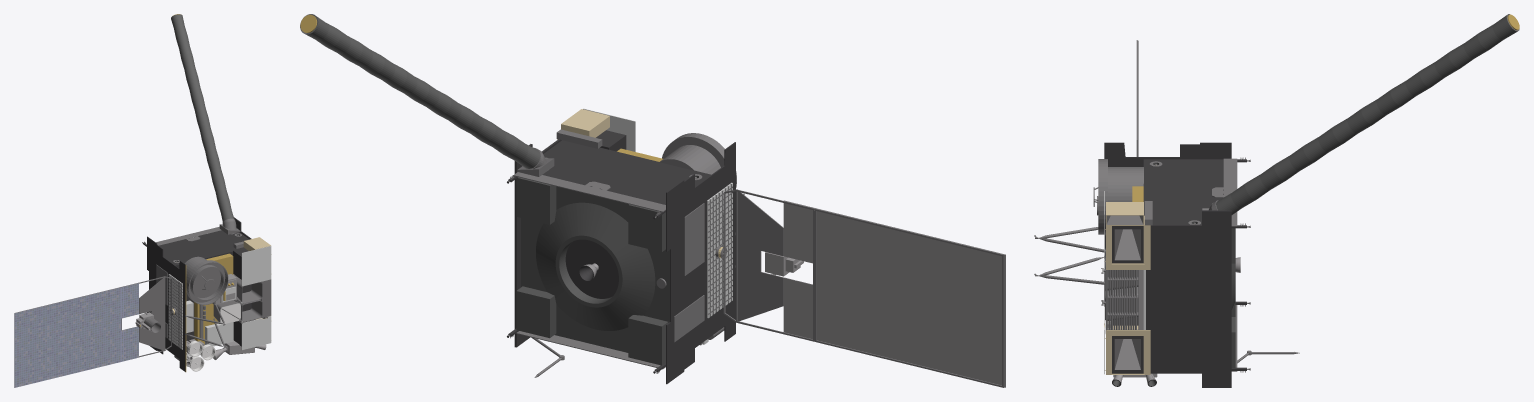
The model's file is goes.gltf.
3 views of the same model, side by side, from view 1: azimuth 30°, elevation 25°; view 2: azimuth 150°, elevation 25°; view 3: azimuth 270°, elevation 25° (orthographic). The views are drawn at different scales.
Parts seen in each view (by area): view 1: Layer_0; view 2: Layer_0; view 3: Layer_0.
Part boxes in pixels (bbox=[...]): Layer_0: bbox=[14, 14, 271, 387]; Layer_0: bbox=[300, 14, 1005, 387]; Layer_0: bbox=[1034, 14, 1519, 387].
Bounding box in the file's own units: 1 × 0.8311 × 0.9102.
